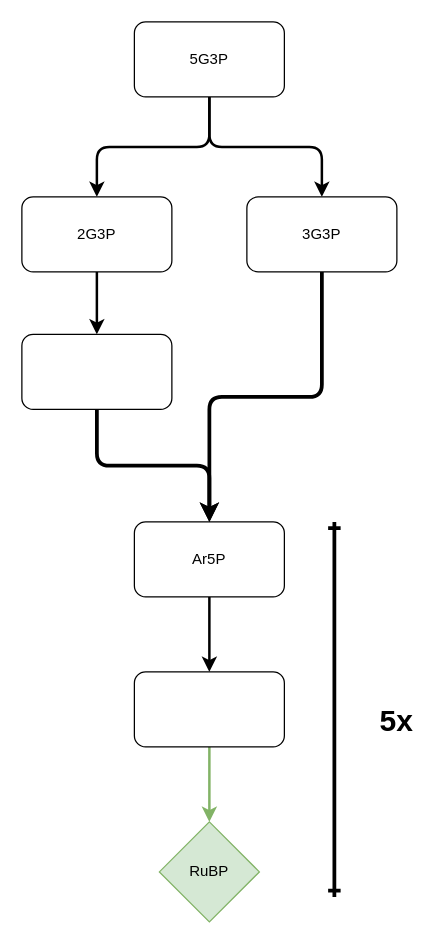
The diagram is 444 pixels wide and 944 high, and some of its shapes have lost their labels. The shapes that lost their labels are listed below. From the top down, each one's centre as x and y in pixels, then its label:
point (96, 371): 3GA
point (208, 709): Ru5P
